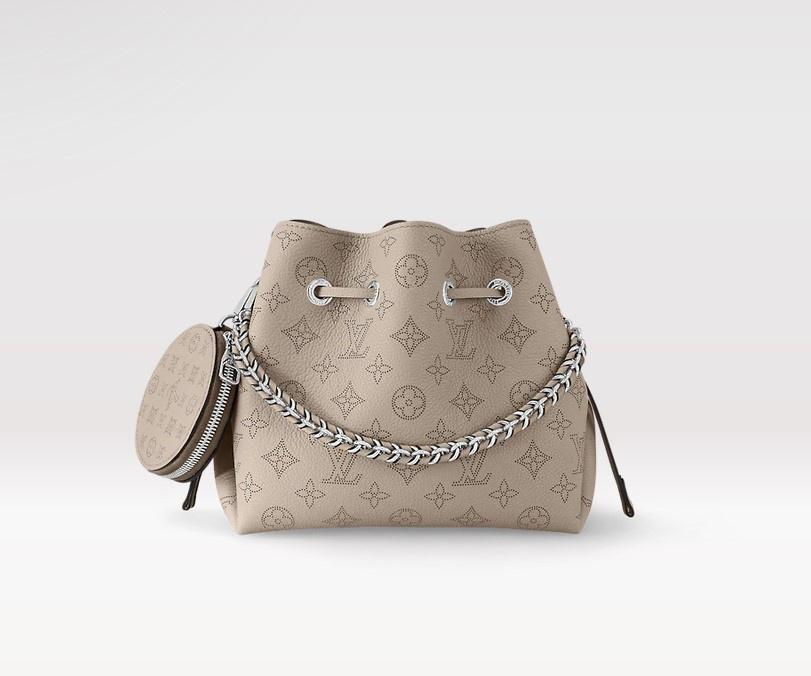LOUIS-VUITTON: (139, 215, 594, 535)
